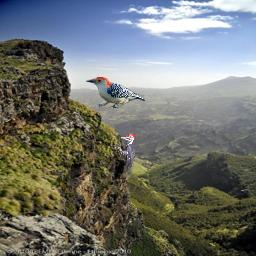Woodpecker: (86, 77, 145, 109), (114, 134, 136, 178)
